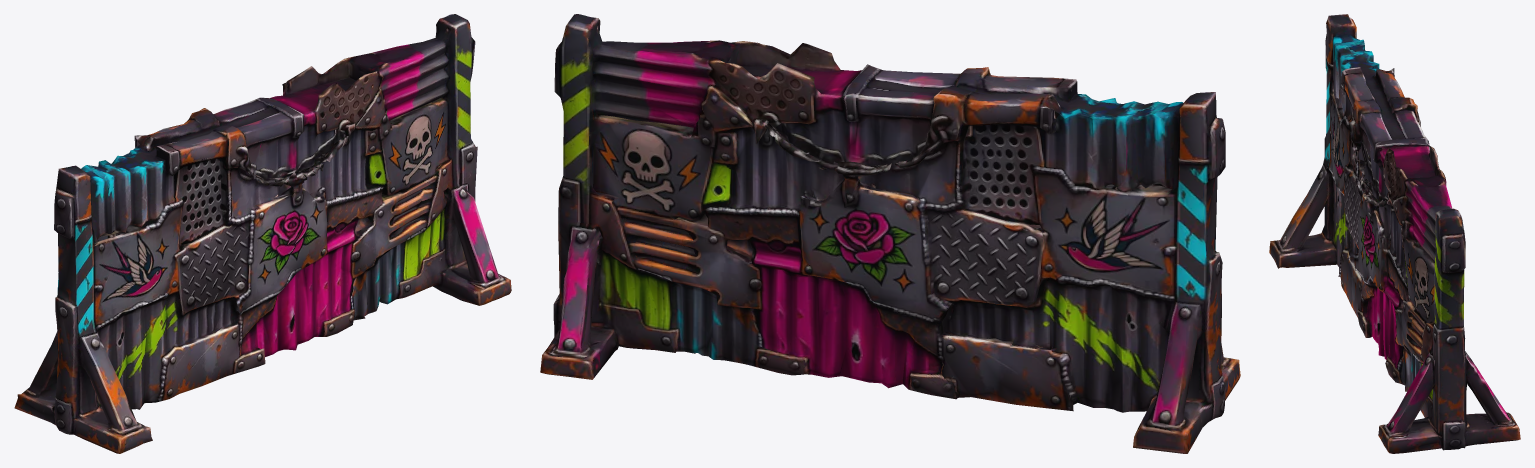
Rendered from GW_D05_scrap_wall.glb.
The picture shows the model from 3 angles, left to right: view 1: azimuth 30°, elevation 25°; view 2: azimuth 150°, elevation 25°; view 3: azimuth 270°, elevation 25°; orthographic projection. The views are drawn at different scales.
Visible parts, largest first — view 1: tripo_node_3e5a5f15-2611-4311-9bf2-f4972f4c405d; view 2: tripo_node_3e5a5f15-2611-4311-9bf2-f4972f4c405d; view 3: tripo_node_3e5a5f15-2611-4311-9bf2-f4972f4c405d.
Boxes of the visible parts, bbox=[...] form: tripo_node_3e5a5f15-2611-4311-9bf2-f4972f4c405d: bbox=[14, 14, 511, 453]; tripo_node_3e5a5f15-2611-4311-9bf2-f4972f4c405d: bbox=[540, 14, 1240, 453]; tripo_node_3e5a5f15-2611-4311-9bf2-f4972f4c405d: bbox=[1269, 14, 1520, 453].
Size of the model in its own units: 0.9989 by 0.5074 by 0.4941.
1 material, 1 textured.
